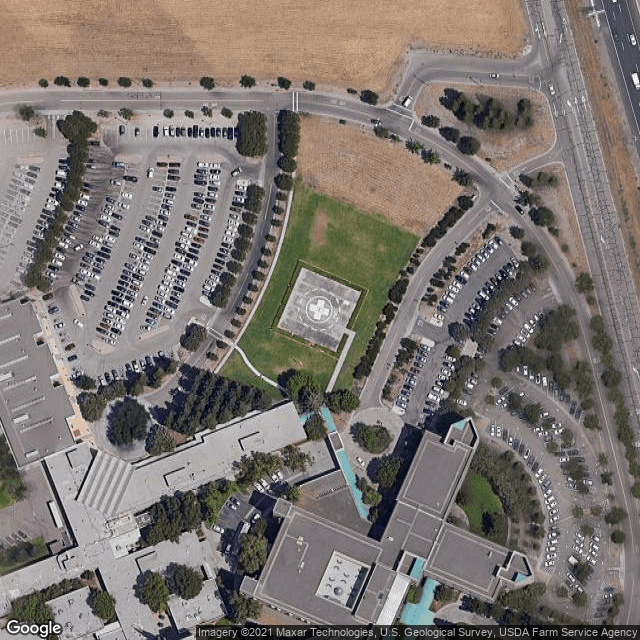Helipad: (296, 282, 347, 334)
